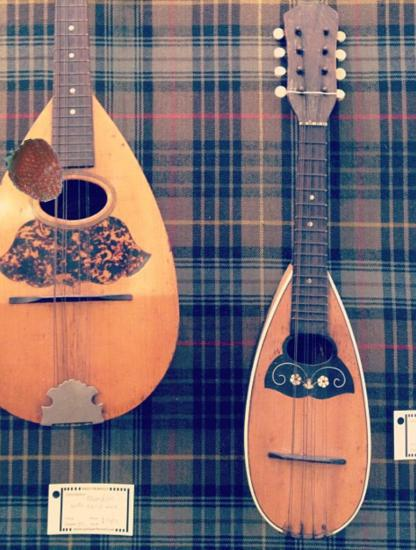Strawberry: (3, 139, 68, 204)
